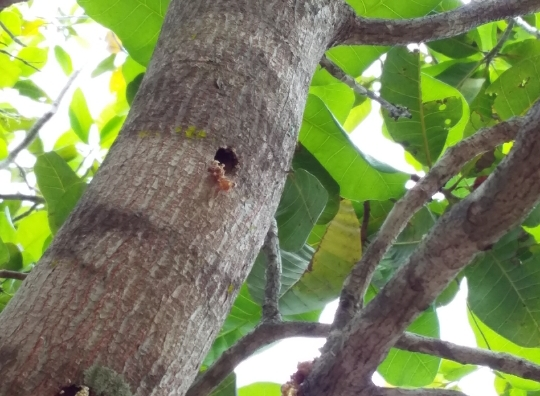Apate terebrans: (196, 138, 257, 196)
